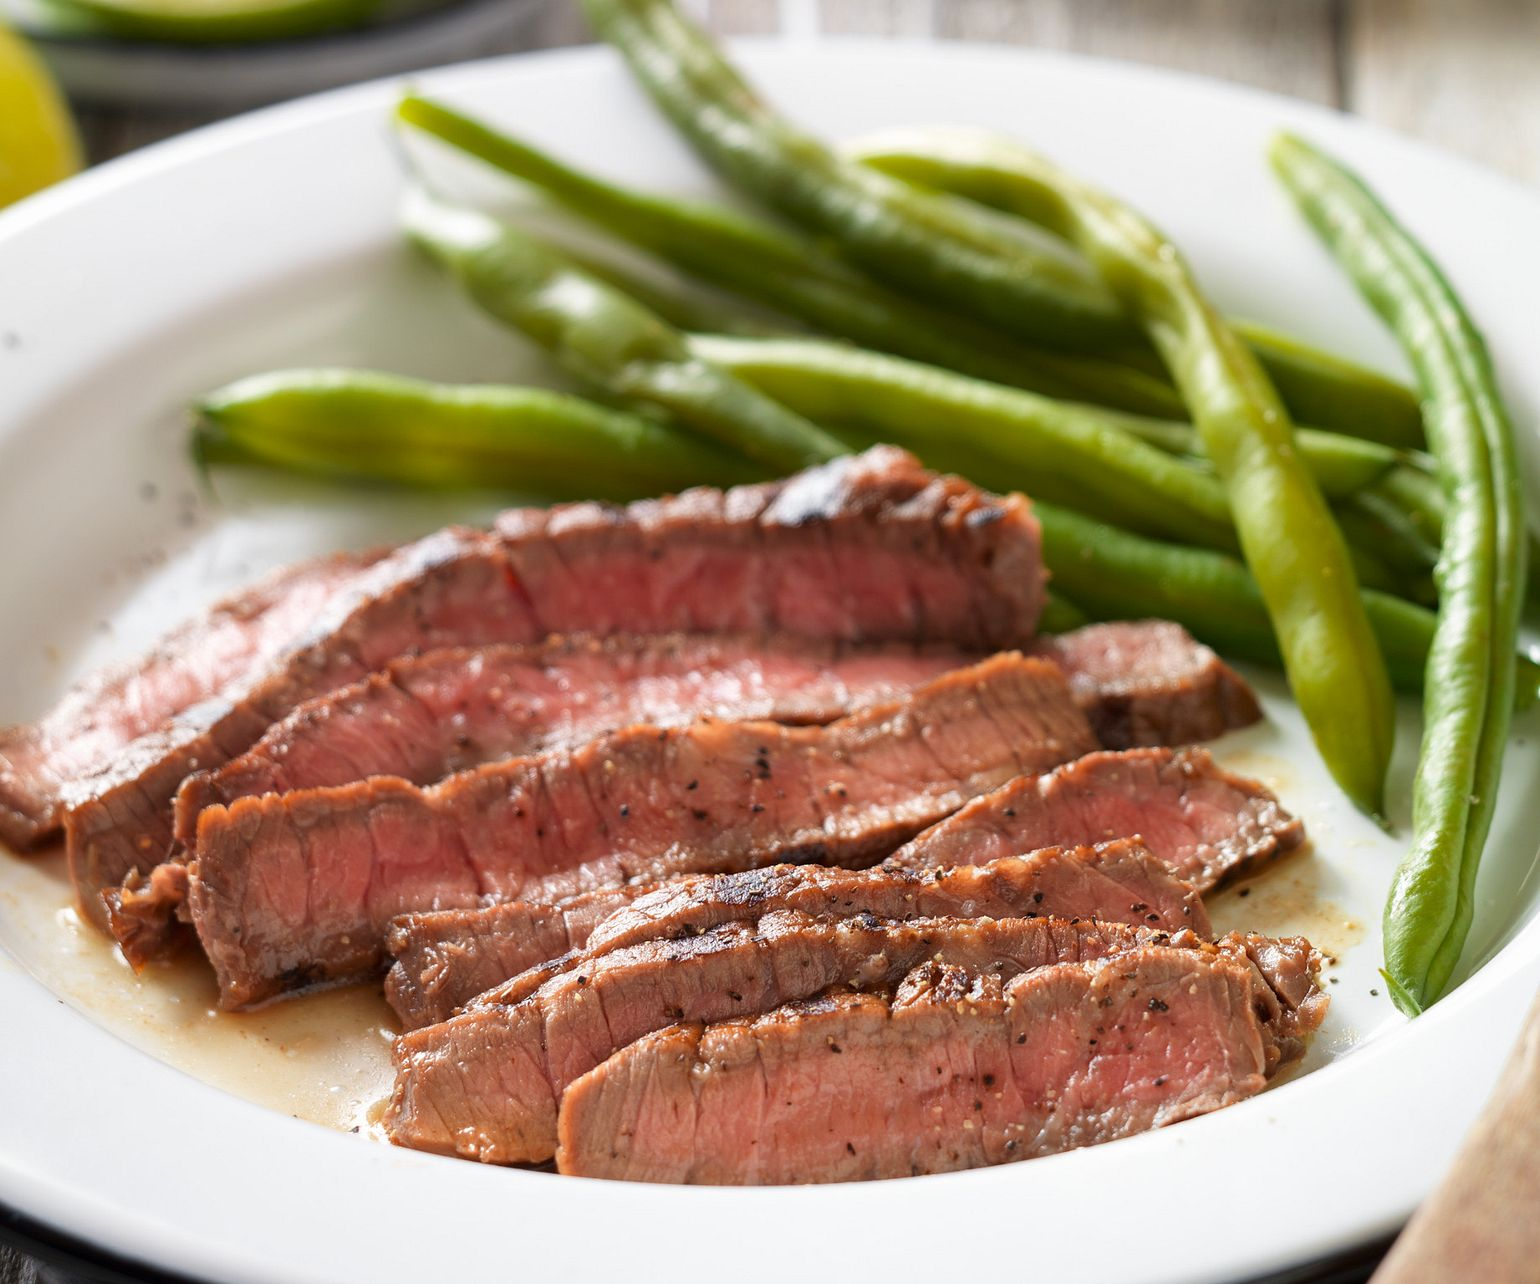beef-round-steak: (1, 445, 1332, 1182)
